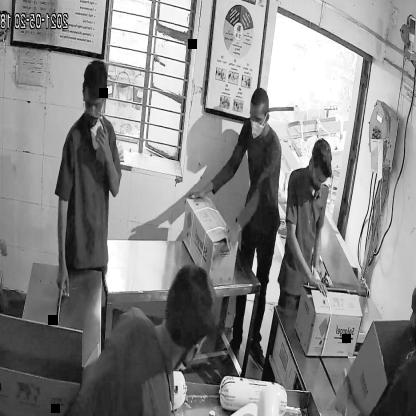goggles: (82, 91, 106, 124)
